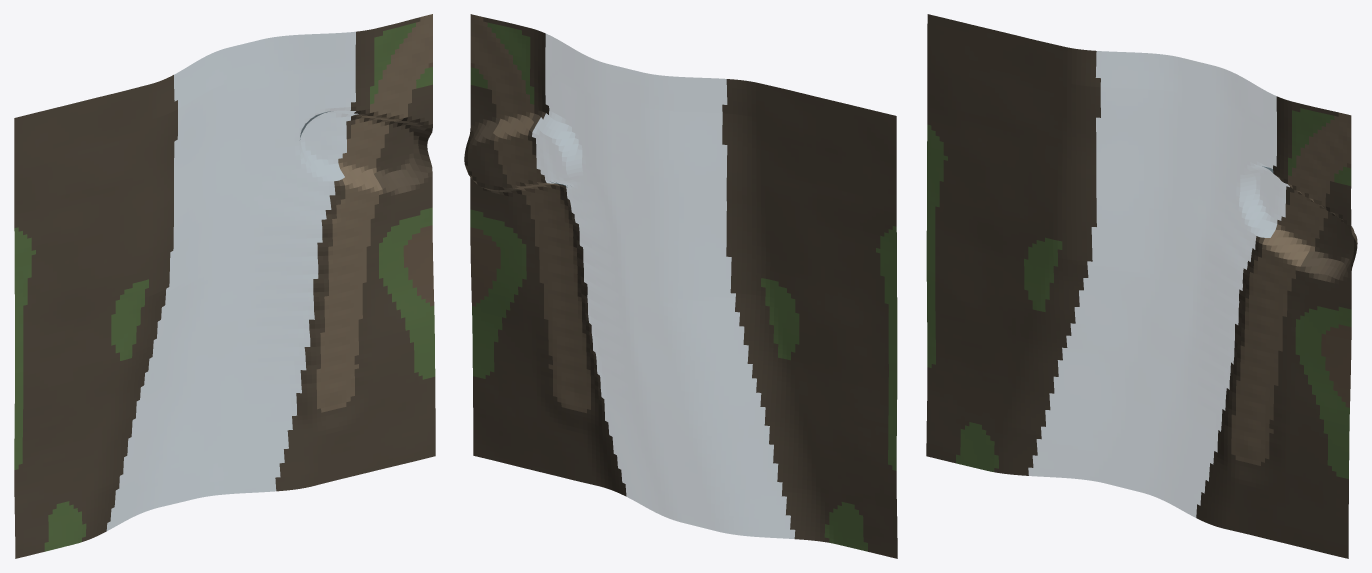
The model's file is SARM_SAR_Terrain_00_01.glb.
3 views of the same model, side by side, from view 1: azimuth 30°, elevation 25°; view 2: azimuth 150°, elevation 25°; view 3: azimuth 330°, elevation 25° (orthographic).
Visible parts, largest first — view 1: SAR_Terrain_00_01.001; view 2: SAR_Terrain_00_01.001; view 3: SAR_Terrain_00_01.001.
Part boxes in pixels (left/top/right/bottom): SAR_Terrain_00_01.001: left=14, top=14, right=435, bottom=558; SAR_Terrain_00_01.001: left=464, top=14, right=897, bottom=558; SAR_Terrain_00_01.001: left=926, top=14, right=1357, bottom=558.
Bounding box in the file's own units: 50 × 50 × 4.53.
